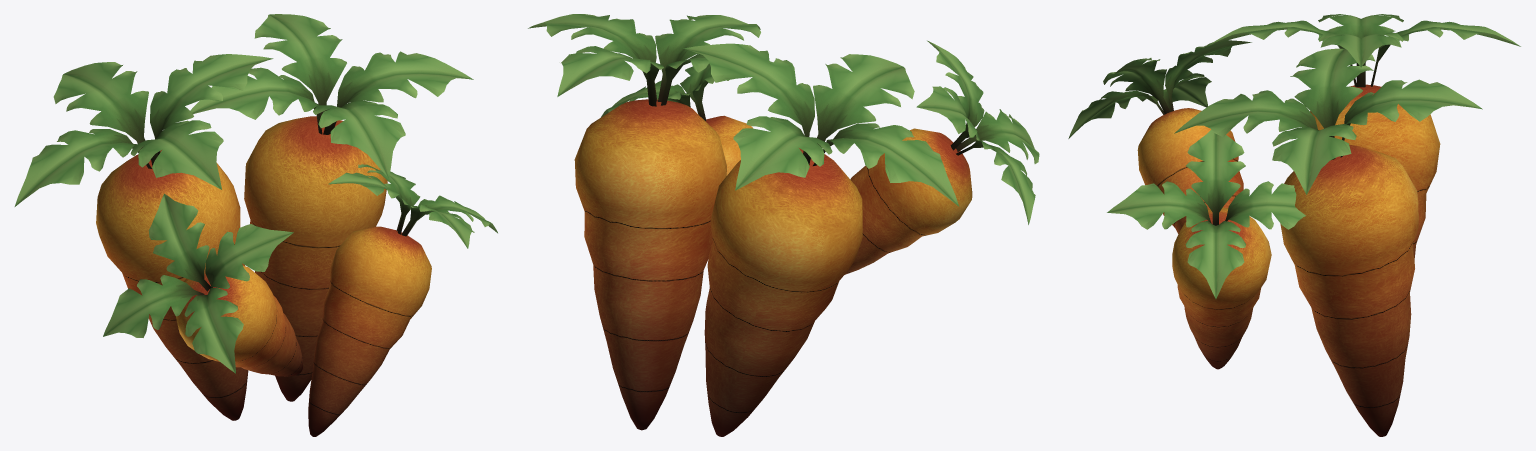
File: Carrot_Stage_3.fbx
3 renders of one model, left to right at view 1: azimuth 30°, elevation 25°; view 2: azimuth 150°, elevation 25°; view 3: azimuth 270°, elevation 25°, orthographic. The views are drawn at different scales.
Visible parts, largest first — view 1: Plane.007; view 2: Plane.007; view 3: Plane.007.
Boxes of the visible parts, x1=… form: Plane.007: x1=14, y1=14, x2=497, y2=436; Plane.007: x1=528, y1=14, x2=1039, y2=436; Plane.007: x1=1068, y1=14, x2=1520, y2=436.
Bounding box in the file's own units: 124 × 99.19 × 113.
Materials: 1 (1 with a texture image).
